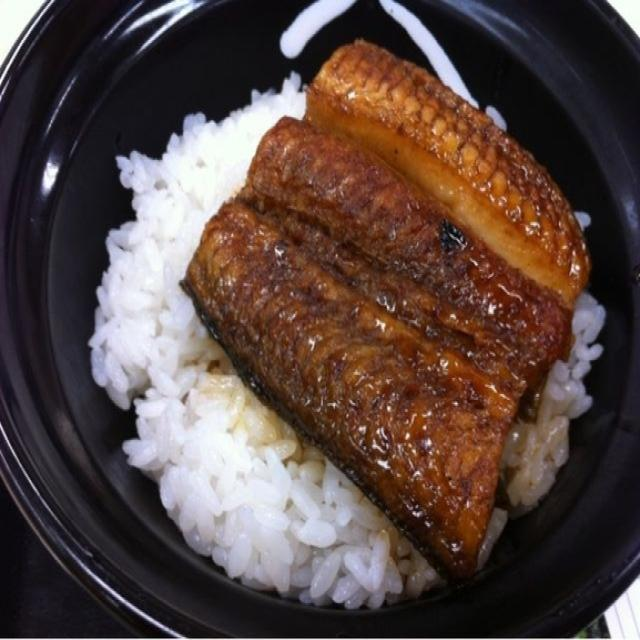汤锅炖物: (382, 152, 637, 514)
